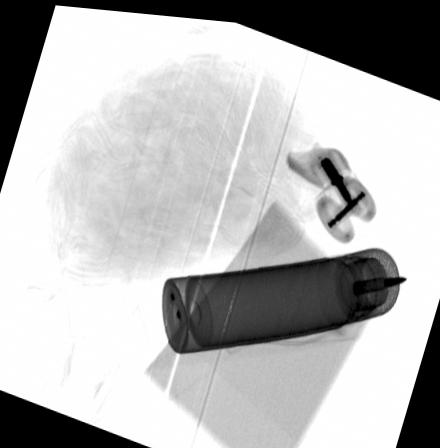Bullet: (349, 266, 408, 289)
